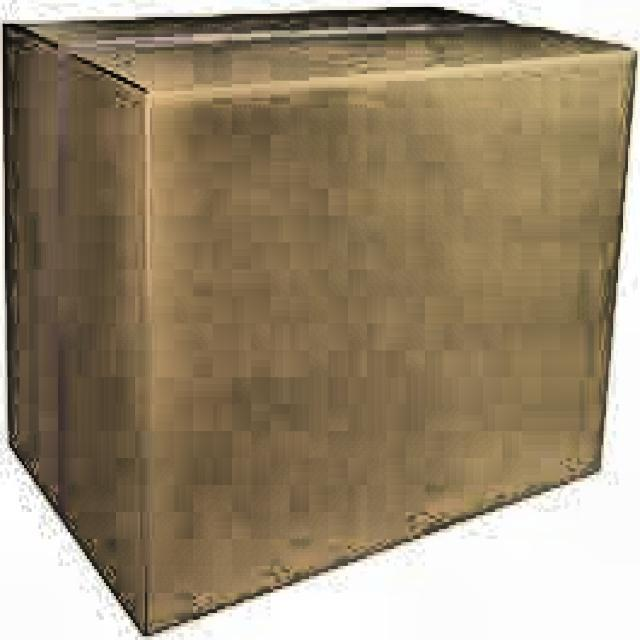cardboard: (2, 3, 638, 637)
